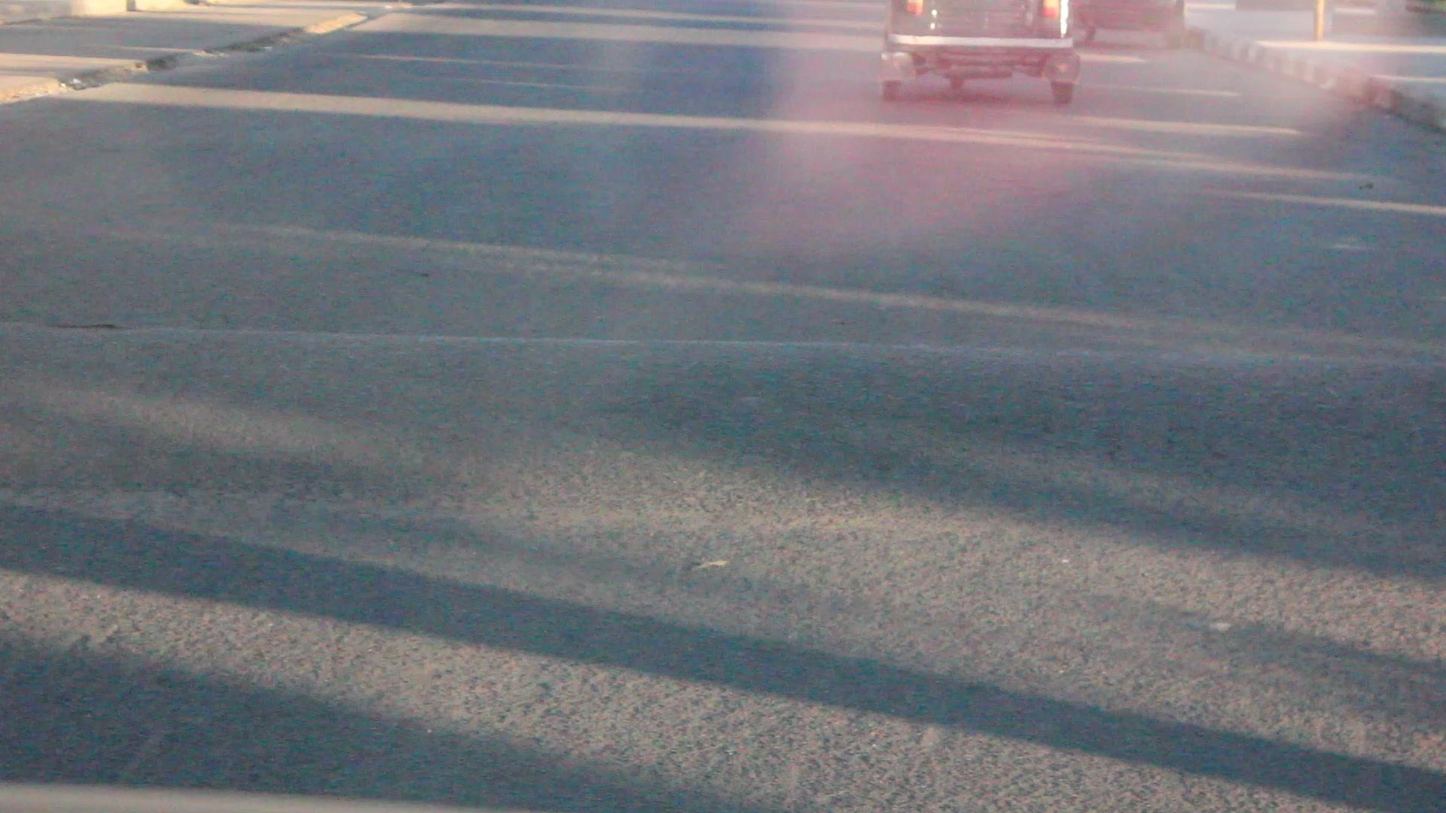Bump: (0, 312, 1446, 550)
